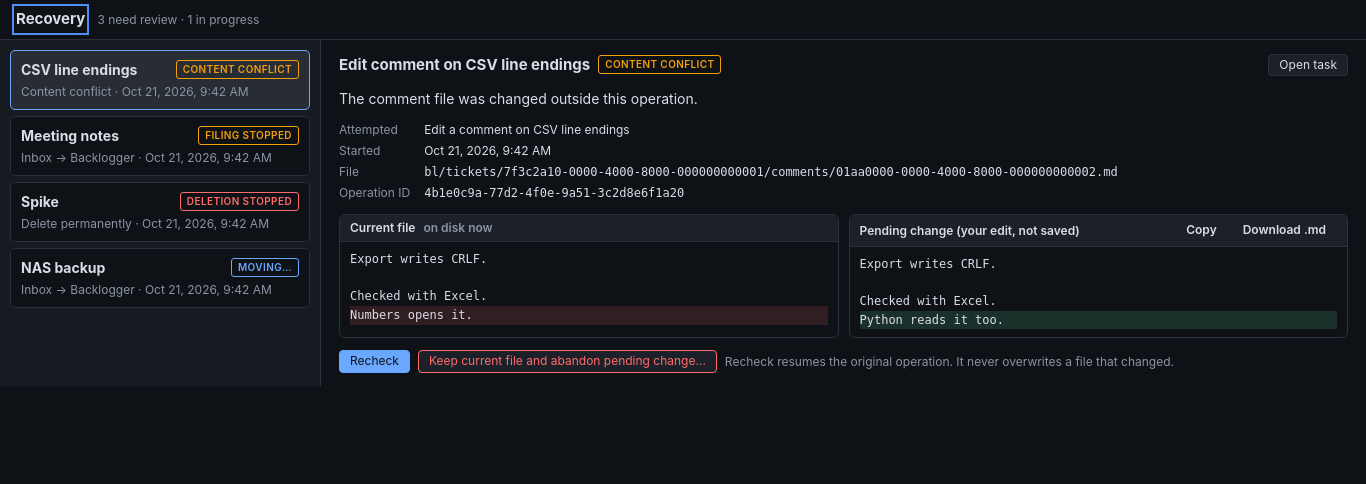
it: RecoveryPage › abandon is confirmed inline in place of the action row, with focus on Keep reviewing
The width and height of the screenshot is (1366, 484).
Click the button "Keep current file and abandon pending change…" at (567, 362), box [418,350,717,373]
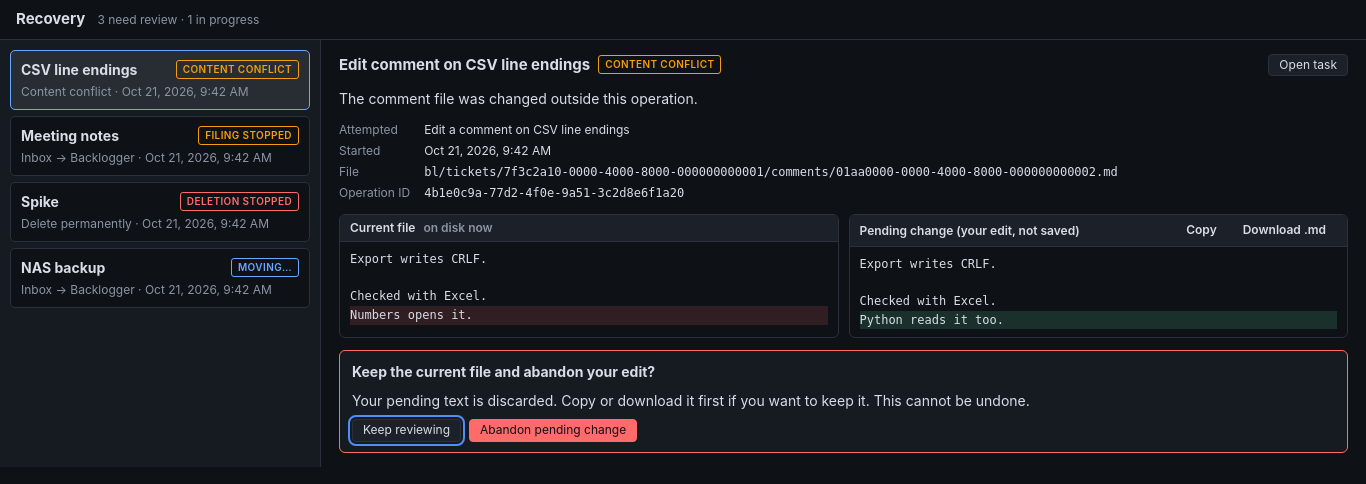
Now the element "Keep the current file and abandon your edit?" shows "Your pending text is discarded. Copy or download it first if you want to keep it. This cannot be undone.", box [352,392,1030,410]
Now the button "Recheck" is gone
Press Escape in the button "Keep reviewing", box [352,420,461,442]
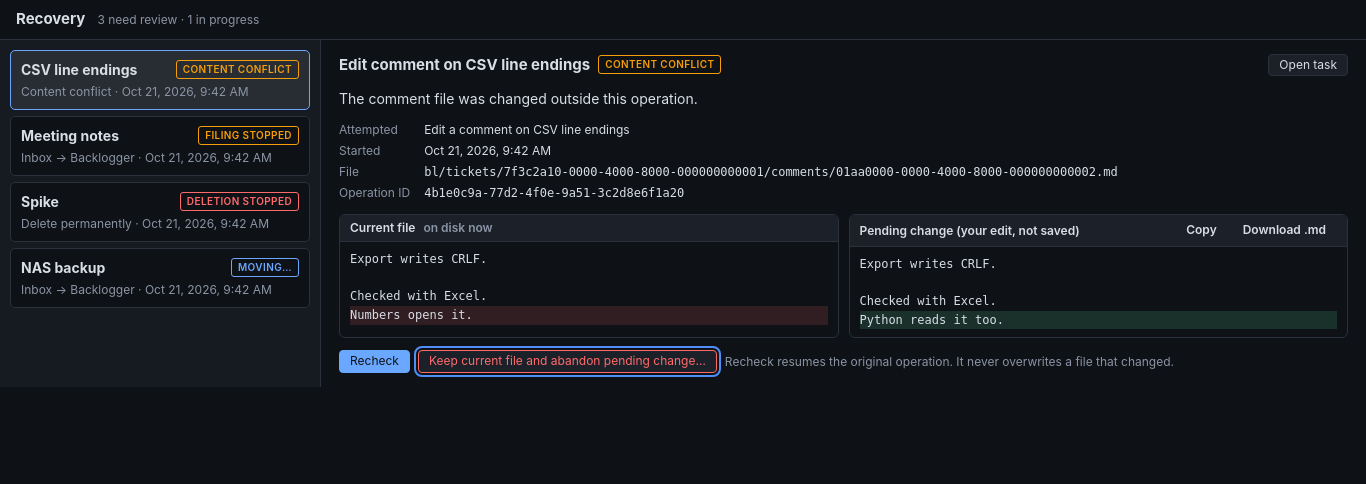
Click the button "Keep current file and abandon pending change…" at (567, 362), box [418,350,717,373]
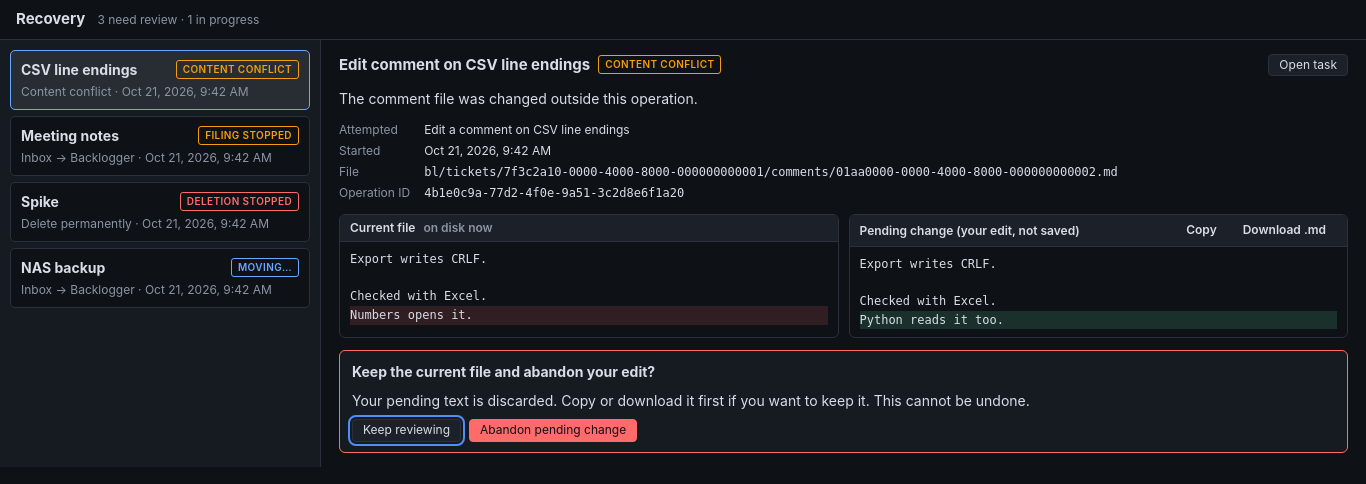
Click the button "Abandon pending change" at (553, 431), box [469,420,637,442]
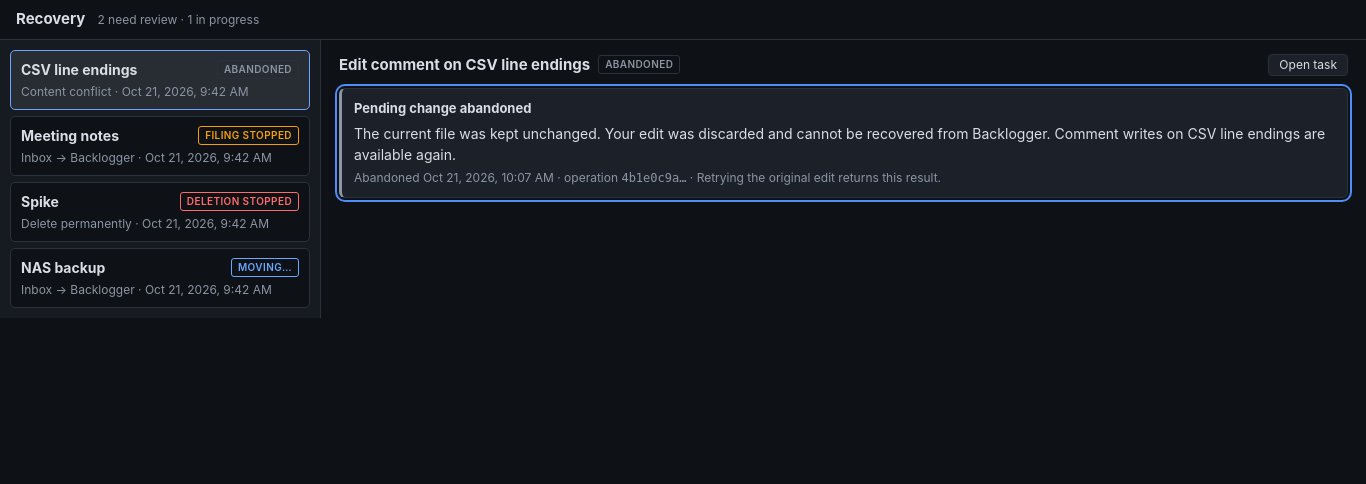
Now the element named "Review" shows "The current file was kept unchanged.", box [354,125,1187,142]
Now the element named "Review" shows "cannot be recovered from Backlogger", box [354,125,1187,142]
Now the element named "Review" shows "Comment writes on CSV line endings are available again.", box [339,54,1348,198]
